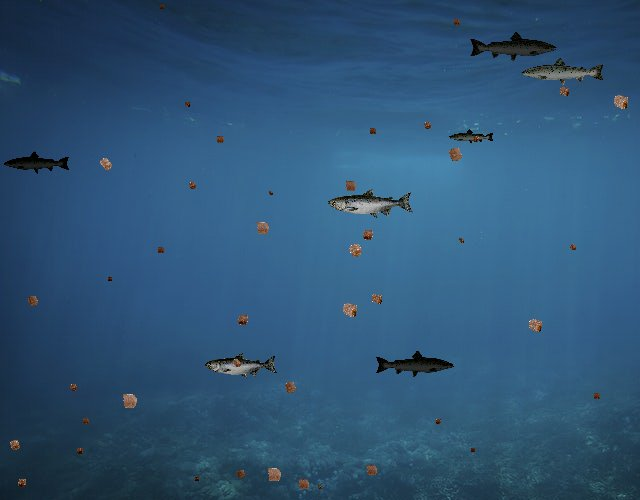Fish: (468, 31, 558, 63), (520, 56, 606, 87), (328, 188, 414, 219), (374, 350, 455, 379), (206, 353, 279, 379), (3, 151, 71, 175), (449, 129, 496, 146)
Pellet: (114, 386, 144, 416), (249, 215, 276, 242), (3, 434, 26, 456), (232, 309, 254, 331), (366, 124, 380, 138), (181, 98, 194, 111)
